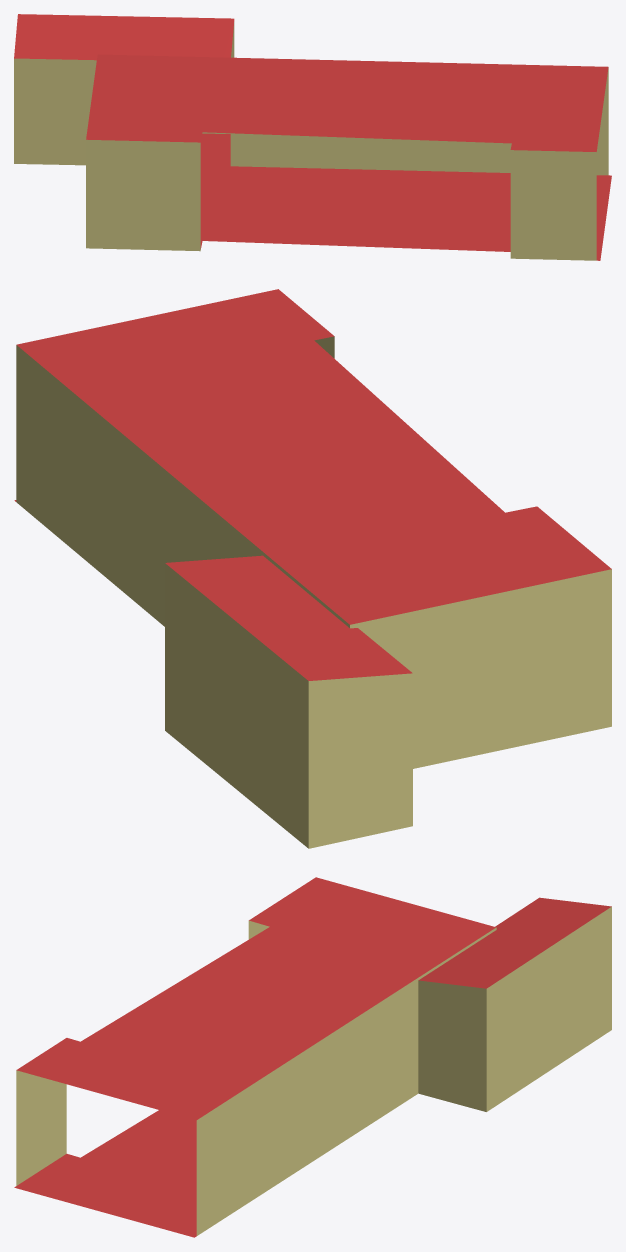
The picture shows the model from 3 angles, top to bottom: view 1: azimuth 30°, elevation 25°; view 2: azimuth 150°, elevation 25°; view 3: azimuth 270°, elevation 25°; orthographic projection. The views are drawn at different scales.
Visible parts, largest first — view 1: group_6, group_7, group_8, group_3, group_4, group_5; view 2: group_6, group_7, group_4, group_3; view 3: group_6, group_7, group_4, group_8, group_3.
Boxes of the visible parts, x1=… form: group_6: x1=86, y1=54, x2=608, y2=151; group_7: x1=86, y1=67, x2=608, y2=260; group_8: x1=200, y1=166, x2=611, y2=260; group_3: x1=14, y1=14, x2=234, y2=60; group_4: x1=14, y1=22, x2=234, y2=165; group_5: x1=200, y1=133, x2=230, y2=168; group_6: x1=16, y1=289, x2=611, y2=624; group_7: x1=16, y1=336, x2=611, y2=768; group_4: x1=165, y1=563, x2=412, y2=848; group_3: x1=165, y1=555, x2=412, y2=680; group_6: x1=16, y1=877, x2=495, y2=1120; group_7: x1=16, y1=920, x2=496, y2=1235; group_4: x1=418, y1=906, x2=611, y2=1111; group_8: x1=14, y1=1110, x2=196, y2=1237; group_3: x1=418, y1=897, x2=611, y2=988.
Size of the model in its own units: 23.26 by 24.05 by 5.48.
